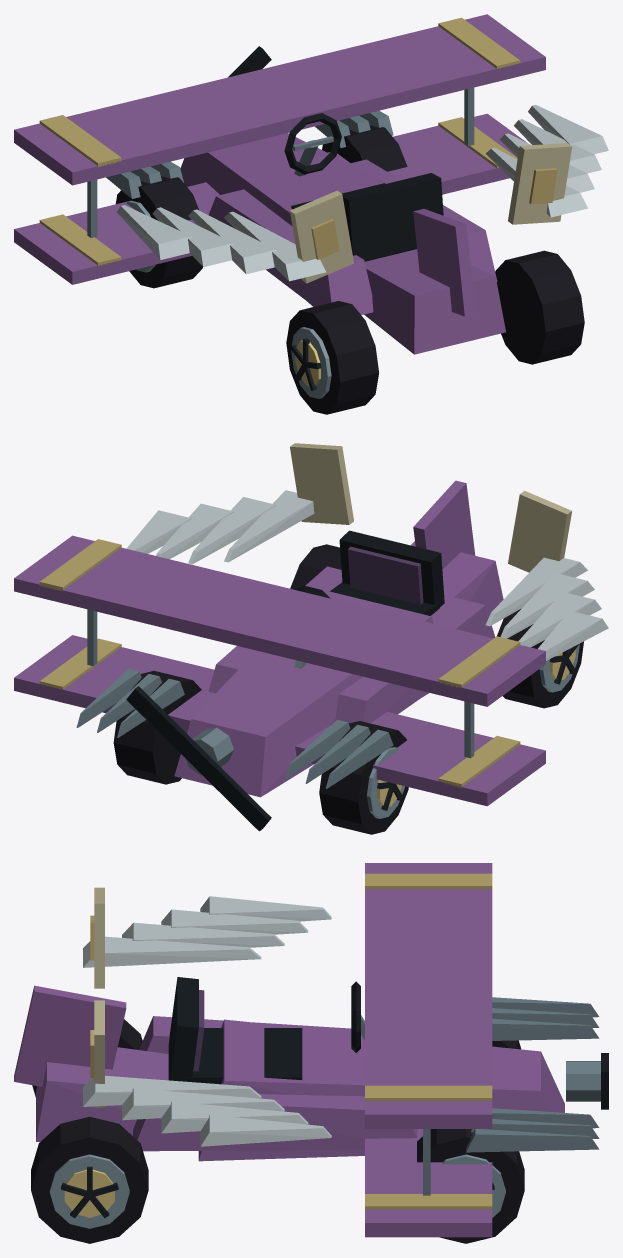
File: kart.glb
The picture shows the model from 3 angles, top to bottom: view 1: azimuth 30°, elevation 25°; view 2: azimuth 150°, elevation 25°; view 3: azimuth 270°, elevation 25°; orthographic projection. The views are drawn at different scales.
Parts seen in each view (by area): view 1: identity-biplane-biplane-dual-wings-and-propeller, identity-biplane-motif-wings-feather, wheel-rear-left, wheel-rear-right, identity-biplane-motif-cards, identity-biplane-driver-cockpit, wheel-front-left, identity-biplane-motif-claws, wheel-front-right; view 2: identity-biplane-biplane-dual-wings-and-propeller, identity-biplane-motif-wings-feather, identity-biplane-motif-cards, identity-biplane-driver-cockpit, identity-biplane-motif-claws, wheel-front-left, wheel-front-right, wheel-rear-left, wheel-rear-right; view 3: identity-biplane-biplane-dual-wings-and-propeller, identity-biplane-motif-wings-feather, wheel-rear-right, identity-biplane-motif-claws, identity-biplane-driver-cockpit, wheel-front-right, identity-biplane-motif-cards, wheel-rear-left.
Part boxes in pixels (x1,y1,x2,y2): identity-biplane-biplane-dual-wings-and-propeller: [14, 14, 545, 354]; identity-biplane-motif-wings-feather: [117, 105, 608, 281]; wheel-rear-left: [286, 301, 378, 414]; wheel-rear-right: [495, 250, 584, 364]; identity-biplane-motif-cards: [290, 143, 572, 283]; identity-biplane-driver-cockpit: [284, 113, 443, 261]; wheel-front-left: [115, 176, 202, 288]; identity-biplane-motif-claws: [106, 110, 393, 198]; wheel-front-right: [322, 125, 407, 171]; identity-biplane-biplane-dual-wings-and-propeller: [14, 480, 545, 831]; identity-biplane-motif-wings-feather: [126, 490, 608, 660]; identity-biplane-motif-cards: [290, 443, 571, 572]; identity-biplane-driver-cockpit: [294, 530, 444, 668]; identity-biplane-motif-claws: [76, 668, 393, 788]; wheel-front-left: [319, 721, 408, 834]; wheel-front-right: [113, 670, 201, 784]; wheel-rear-left: [497, 608, 583, 708]; wheel-rear-right: [290, 544, 341, 589]; identity-biplane-biplane-dual-wings-and-propeller: [14, 863, 608, 1237]; identity-biplane-motif-wings-feather: [83, 896, 331, 1146]; wheel-rear-right: [31, 1116, 148, 1243]; identity-biplane-motif-claws: [466, 997, 599, 1152]; identity-biplane-driver-cockpit: [168, 977, 364, 1084]; wheel-front-right: [417, 1129, 524, 1243]; identity-biplane-motif-cards: [90, 887, 104, 1107]; wheel-rear-left: [32, 1019, 142, 1097].
Size of the model in its own units: 3.04 by 1.28 by 3.04.
